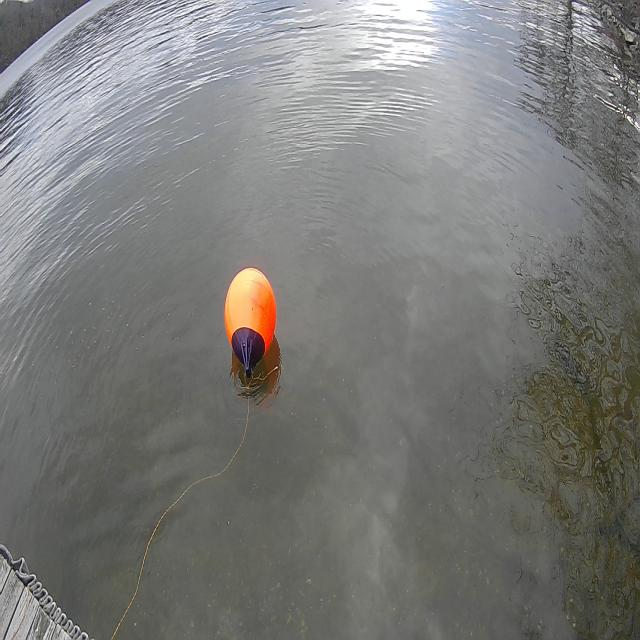Buoy: (215, 259, 283, 386)
